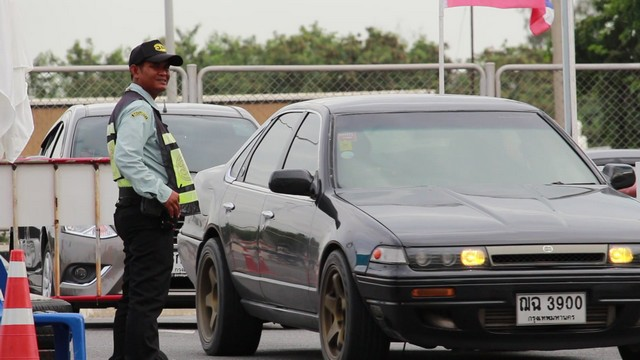in: (516, 293, 585, 325)
out: (512, 289, 591, 330)
